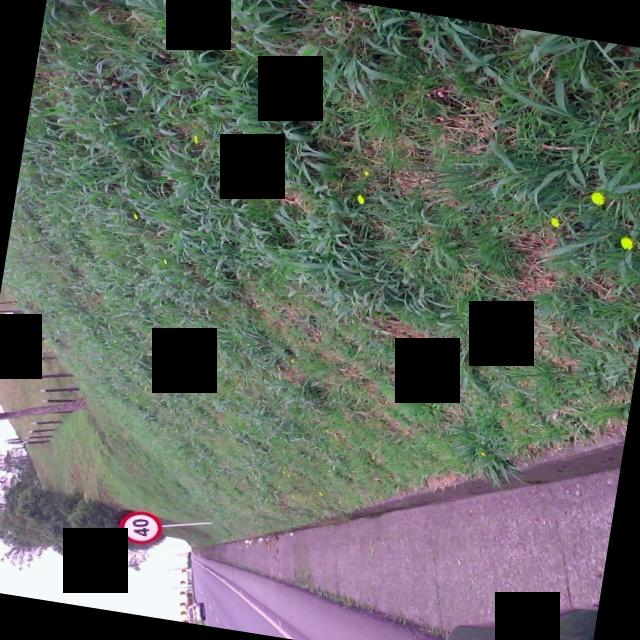DITCH: (180, 366, 624, 640)
